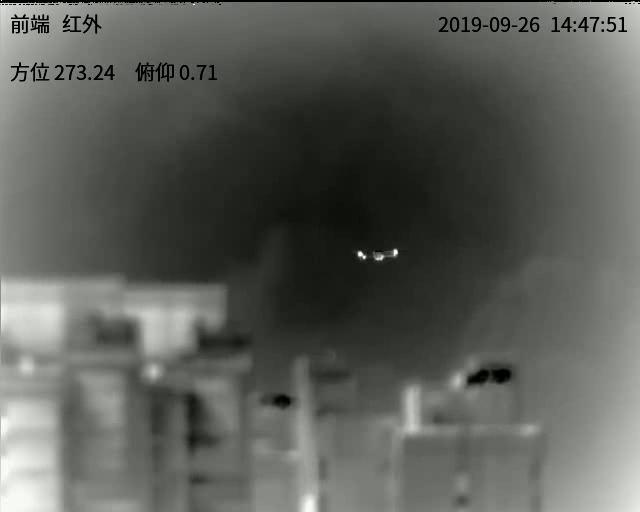DRONE: (355, 247, 399, 263)
